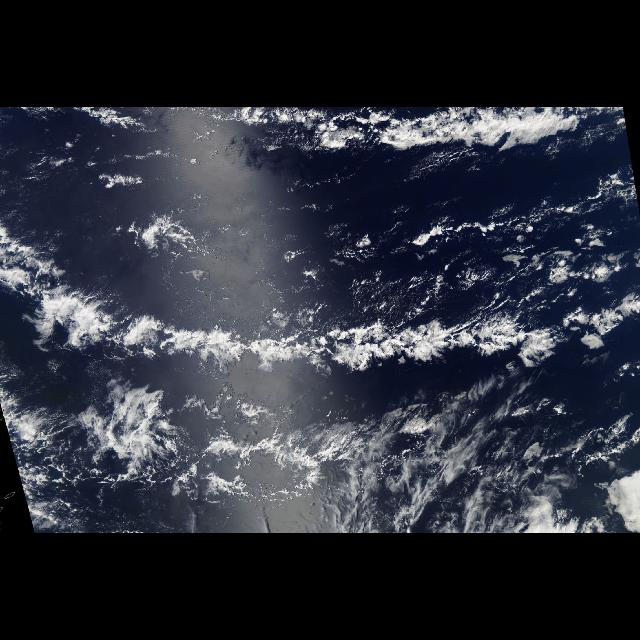Gravel: (62, 280, 638, 370)
Sugar: (38, 287, 558, 377)
